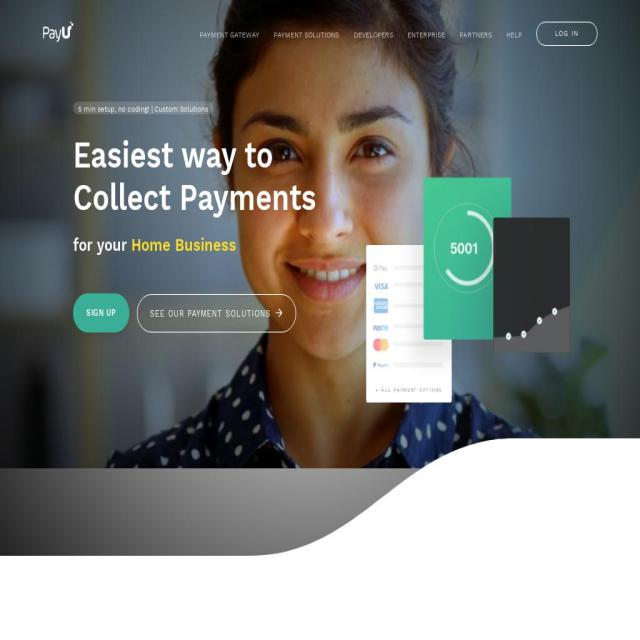button: (136, 294, 296, 332), (73, 294, 129, 332), (536, 21, 598, 46), (42, 21, 74, 43)
heading: (73, 134, 324, 218)
image: (42, 21, 74, 43), (372, 295, 390, 319), (372, 354, 390, 378), (393, 265, 448, 271), (393, 282, 448, 288), (393, 303, 448, 309), (393, 323, 448, 329), (393, 341, 448, 347), (393, 362, 448, 368), (372, 338, 390, 353), (372, 280, 390, 292), (372, 322, 390, 334), (372, 264, 390, 274)
link: (273, 29, 339, 39), (199, 29, 259, 39), (353, 29, 393, 39), (407, 29, 445, 39), (459, 29, 492, 39), (506, 29, 522, 39)
text: (131, 233, 237, 255), (73, 232, 128, 256), (150, 308, 270, 319), (450, 235, 500, 261), (78, 104, 209, 113), (379, 387, 449, 394), (375, 387, 379, 394)
